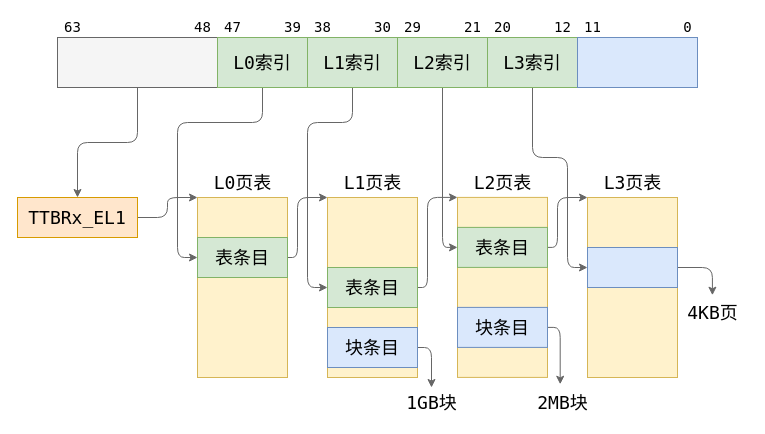
Some shapes in this 765 by 434 pixel diagram are drawn without their labels. Here are the shapes that lost their labels. From the top down, the centre of each, then its label:
At (x=137, y=62): "FFFF/0000".
At (x=637, y=62): "页内偏移".
At (x=632, y=267): "页条目".
